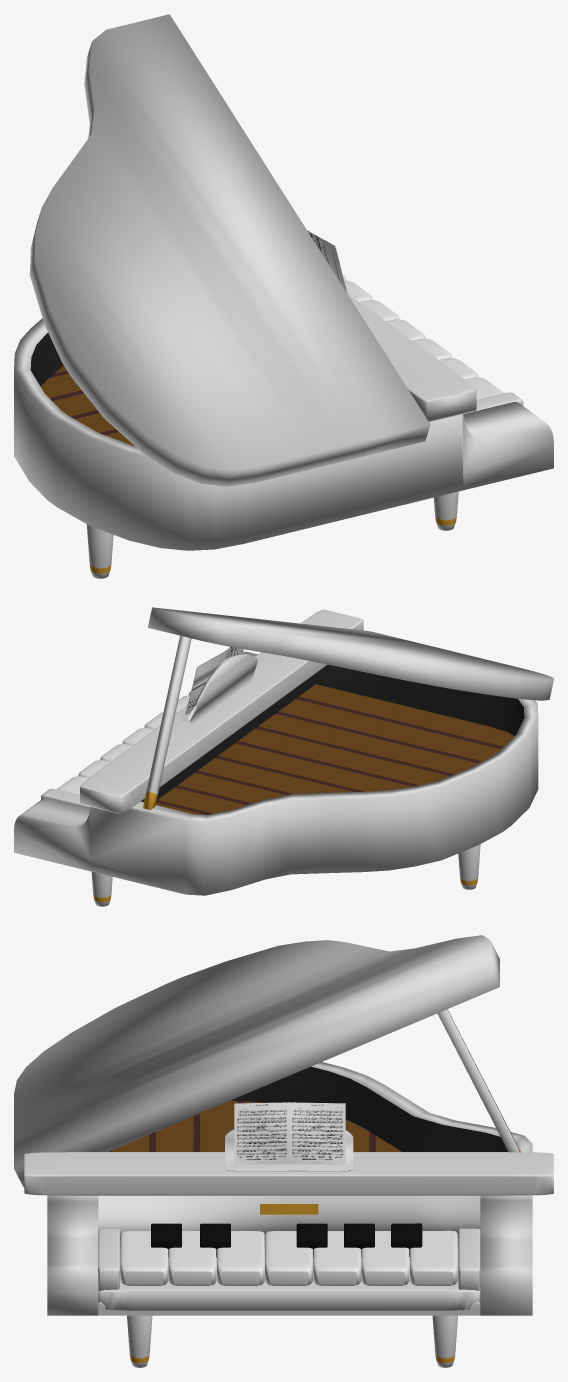
Rendered from little_piano.glb.
3 views of the same model, one above another, from view 1: azimuth 30°, elevation 25°; view 2: azimuth 150°, elevation 25°; view 3: azimuth 270°, elevation 25° (orthographic). The views are drawn at different scales.
Parts seen in each view (by area): view 1: CoverSmall, MainFrameSmall, Top, Feet.001, Feet.002; view 2: MainFrameSmall, CoverSmall, Top, Plane.004, Plane, Plane.006, Plane.008, Plane.010, SheetHolder, Plane.012, Plane.014, Plane.016 (+10 smaller); view 3: CoverSmall, MainFrameSmall, Top, KeyboardSupport, Sheet, White.006, White.002, White, White.003, White.001, White.004, White.005 (+11 smaller).
Boxes of the visible parts, x1,y1,x2,y2 form: CoverSmall: (29,14,430,486); MainFrameSmall: (14,318,553,550); Top: (347,293,476,422); Feet.001: (86,524,113,578); Feet.002: (434,491,458,530); MainFrameSmall: (14,651,538,895); CoverSmall: (143,607,553,809); Top: (80,609,363,813); Plane.004: (279,699,500,761); Plane: (299,684,514,746); Plane.006: (258,714,477,774); Plane.008: (238,728,449,785); Plane.010: (218,743,412,791); SheetHolder: (178,654,257,723); Plane.012: (198,758,353,793); Plane.014: (178,773,286,803); Plane.016: (158,787,245,813); CoverSmall: (14,935,520,1187); MainFrameSmall: (47,1062,532,1315); Top: (24,1152,553,1195); KeyboardSupport: (98,1228,480,1310); Sheet: (234,1102,345,1165); White.006: (410,1230,457,1285); White.002: (217,1231,264,1285); White: (120,1231,168,1285); White.003: (265,1231,312,1285); White.001: (168,1231,216,1285); White.004: (313,1231,361,1285); White.005: (361,1231,409,1285).
Size of the model in its own units: 6.95 by 6.31 by 8.61.
Materials: 9 (2 with a texture image).
